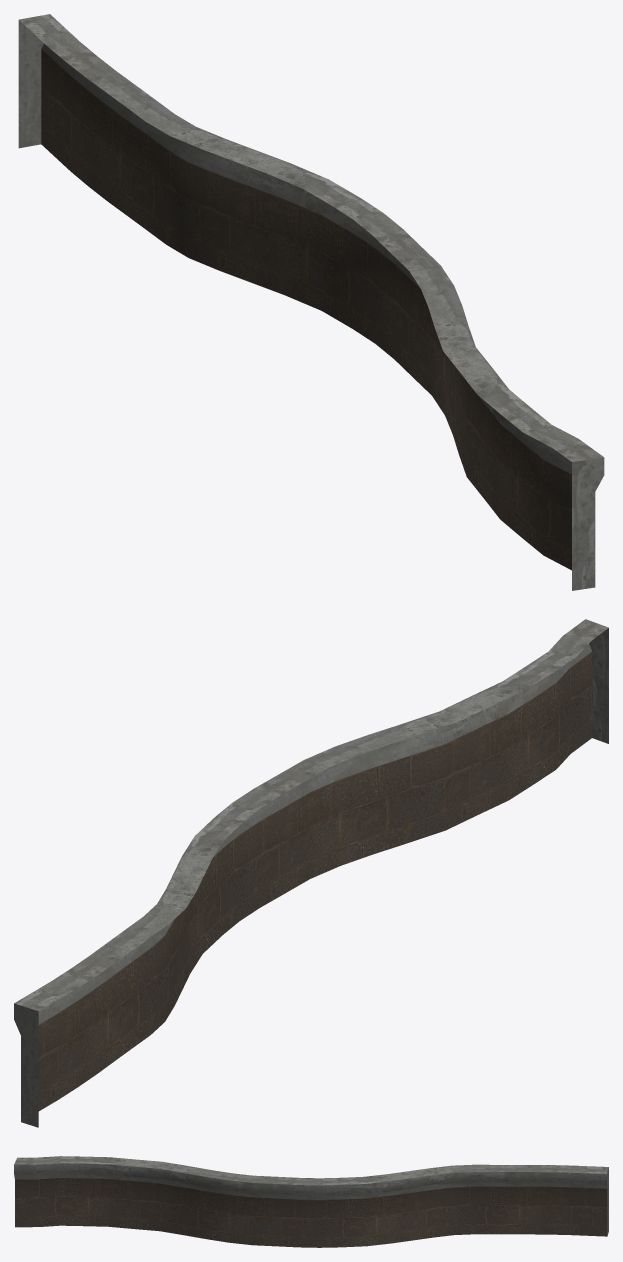
Rendered from wall.fbx.
3 views of the same model, one above another, from view 1: azimuth 30°, elevation 25°; view 2: azimuth 150°, elevation 25°; view 3: azimuth 270°, elevation 25° (orthographic). The views are drawn at different scales.
Parts seen in each view (by area): view 1: polySurface34; view 2: polySurface34; view 3: polySurface34.
Boxes of the visible parts, left/top/right/bottom form: polySurface34: left=18, top=14, right=604, bottom=590; polySurface34: left=14, top=619, right=608, bottom=1127; polySurface34: left=14, top=1156, right=608, bottom=1247.
Bounding box in the file's own units: 5.83 × 5.96 × 49.94.
